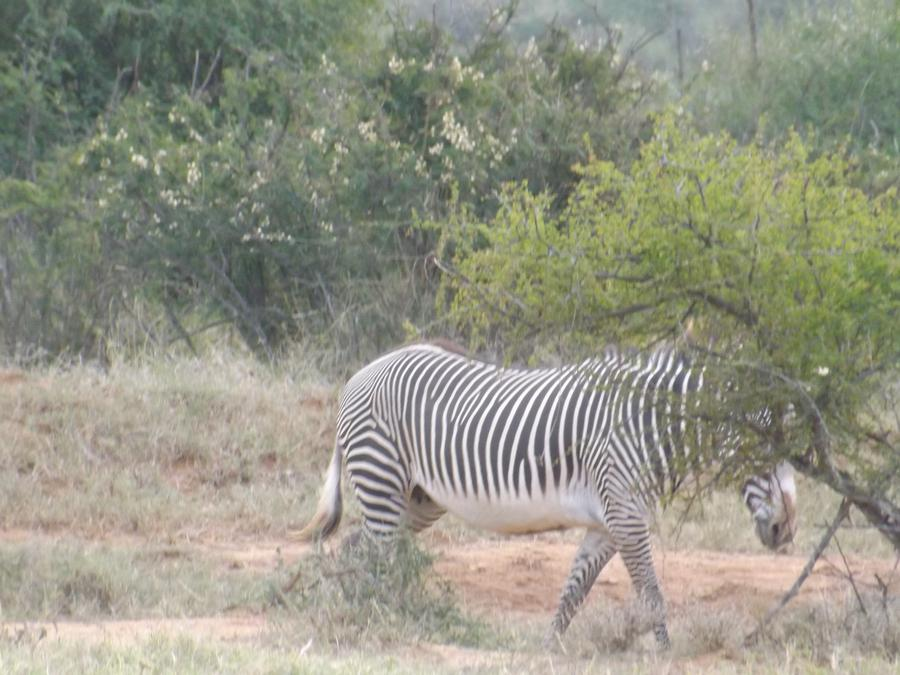zebra_grevys: (339, 318, 661, 524)
